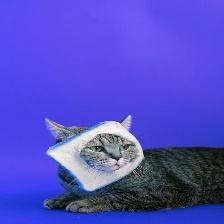kedo: (44, 115, 224, 213)
